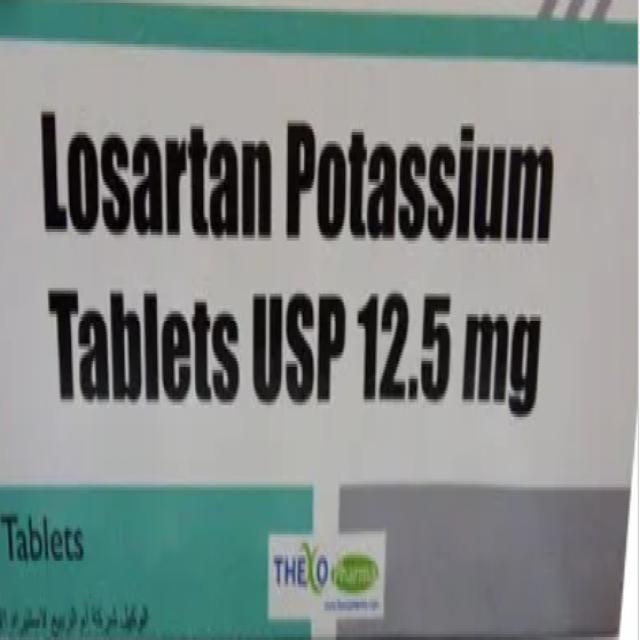drug-name: (36, 98, 563, 254)
